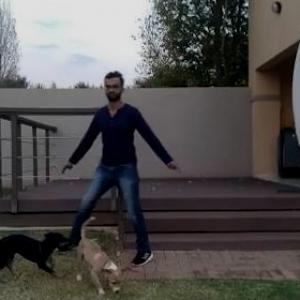land: (75, 85, 185, 266)
